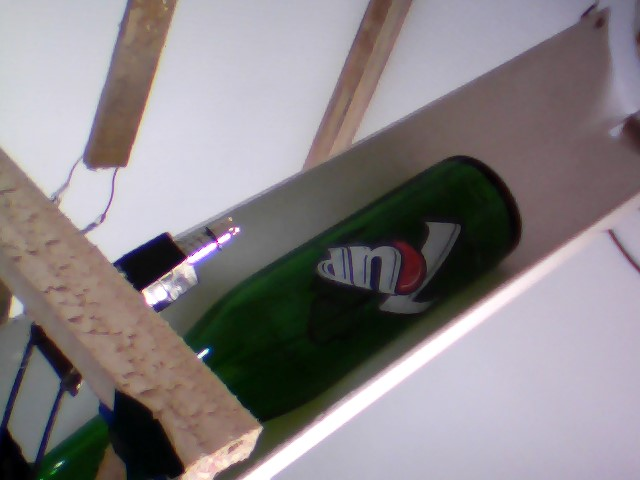vidrio: (180, 145, 524, 429)
